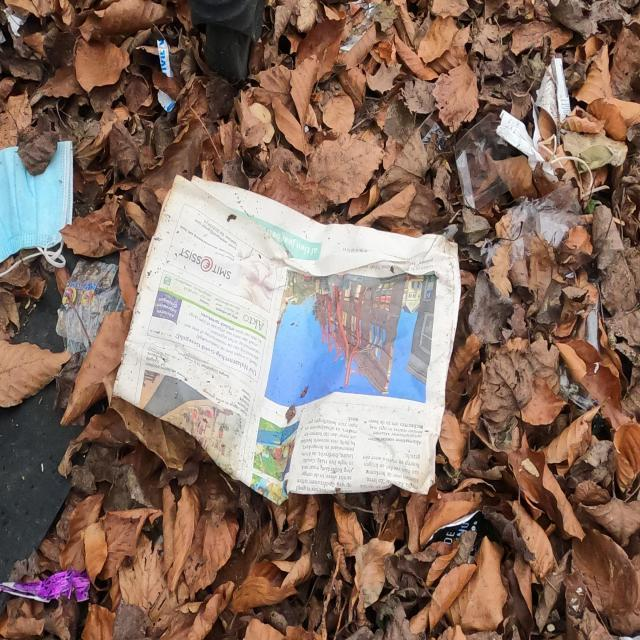Plastic: (0, 565, 91, 606)
